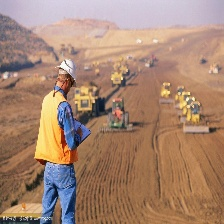helmet: (58, 58, 77, 79)
person: (35, 52, 89, 224)
vest: (35, 89, 78, 165)
